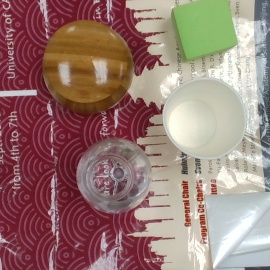bottle: (78, 137, 151, 213)
chess: (45, 19, 133, 112)
cup: (163, 76, 247, 157)
